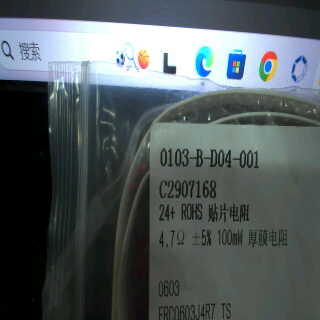4.7R: (157, 227, 188, 249)
